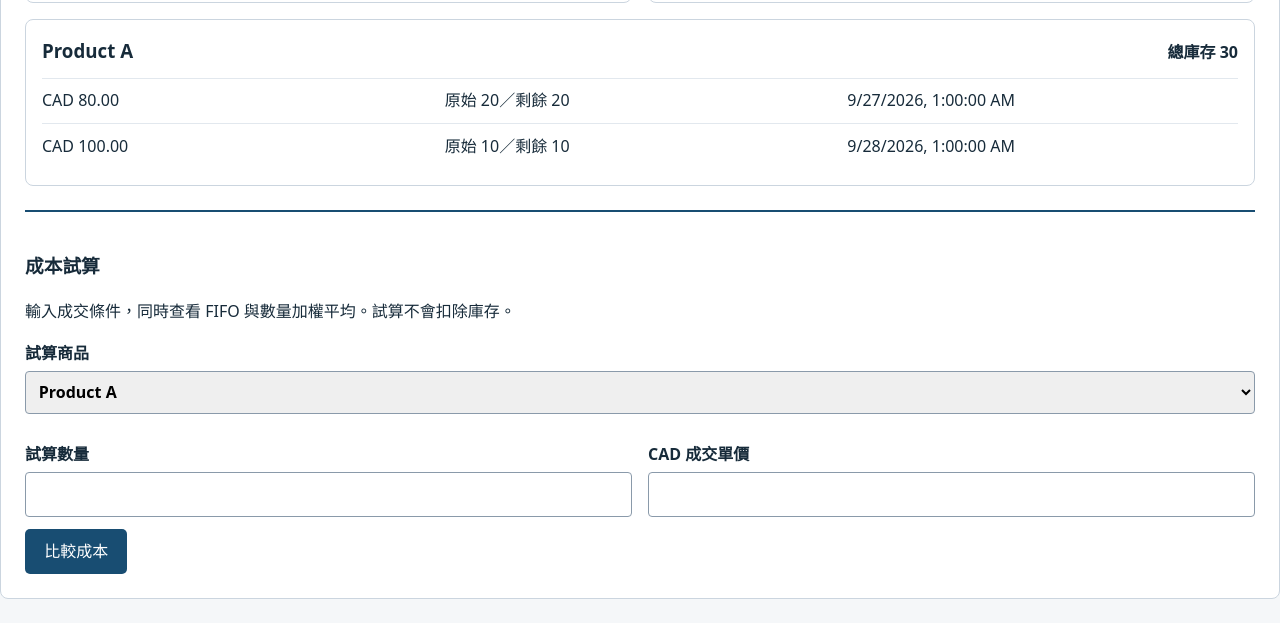
Test: 商品、進貨與庫存 › 將 FIFO 與加權平均並排呈現且不推薦算法
(page scrolled)
Expected: the dropdown labelled "試算商品" shows "Product A", [25, 371, 1255, 414]
Type "25" into the number field labelled "試算數量". click: (328, 494)
box: [25, 472, 632, 517]
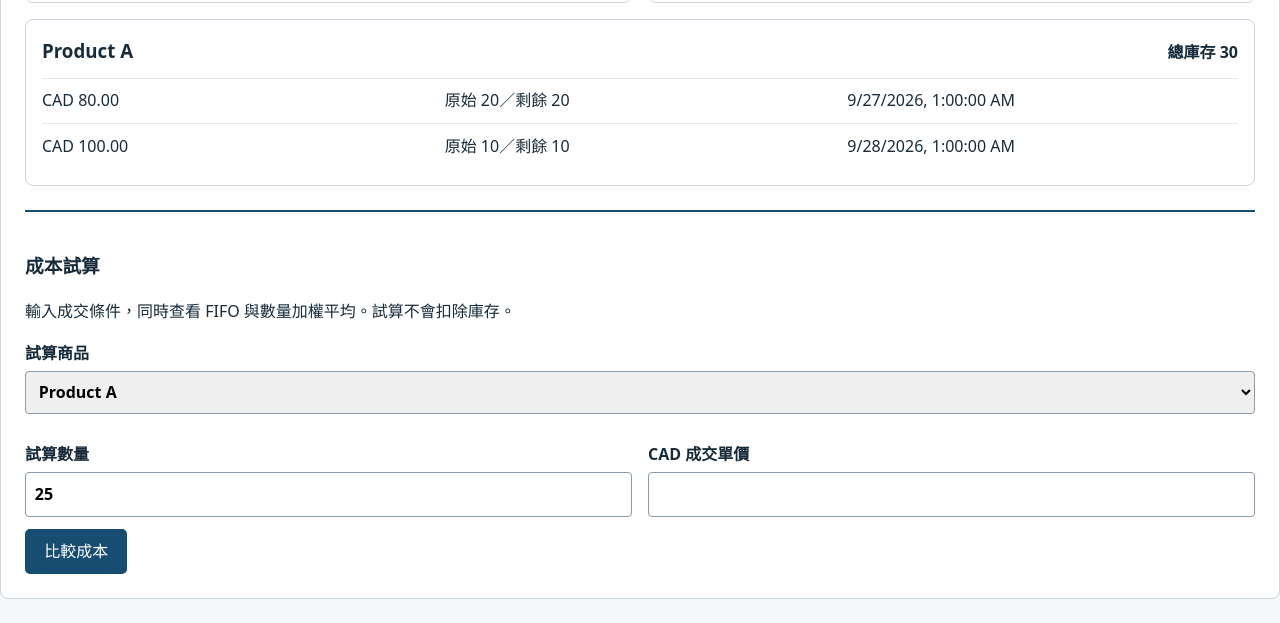
Type "120.00" into the number field labelled "CAD 成交單價". click: (952, 494)
box: [648, 472, 1255, 517]
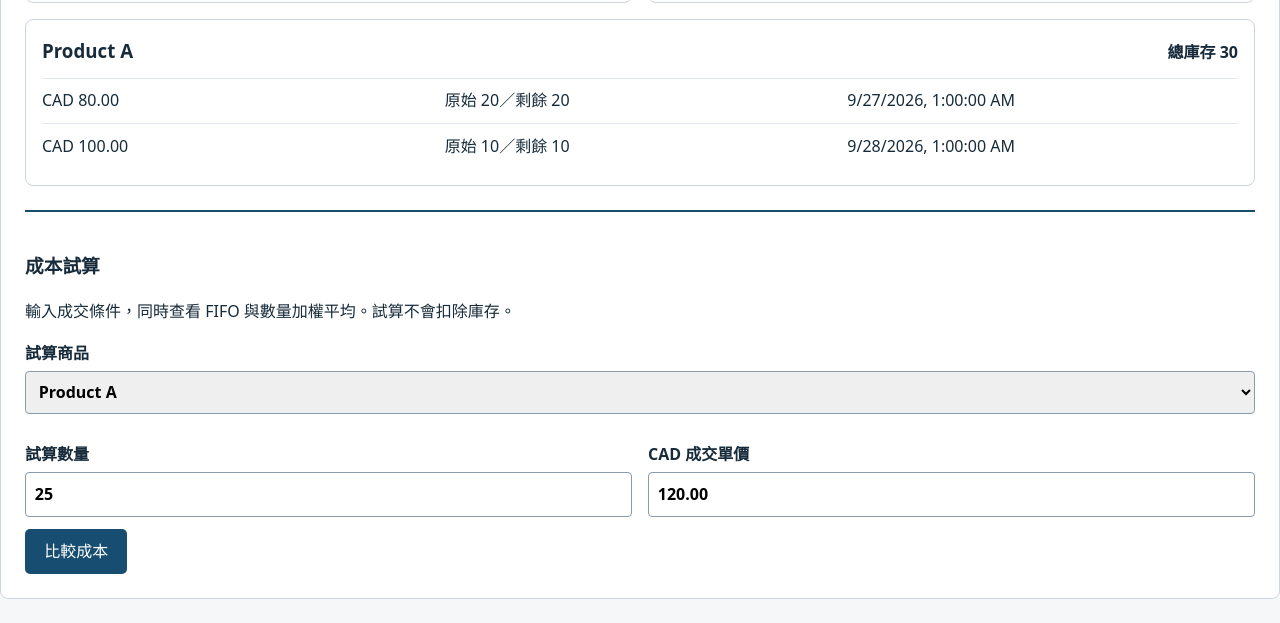
Click the button "比較成本". click: (76, 551)
box: [25, 529, 127, 574]
(page scrolled)
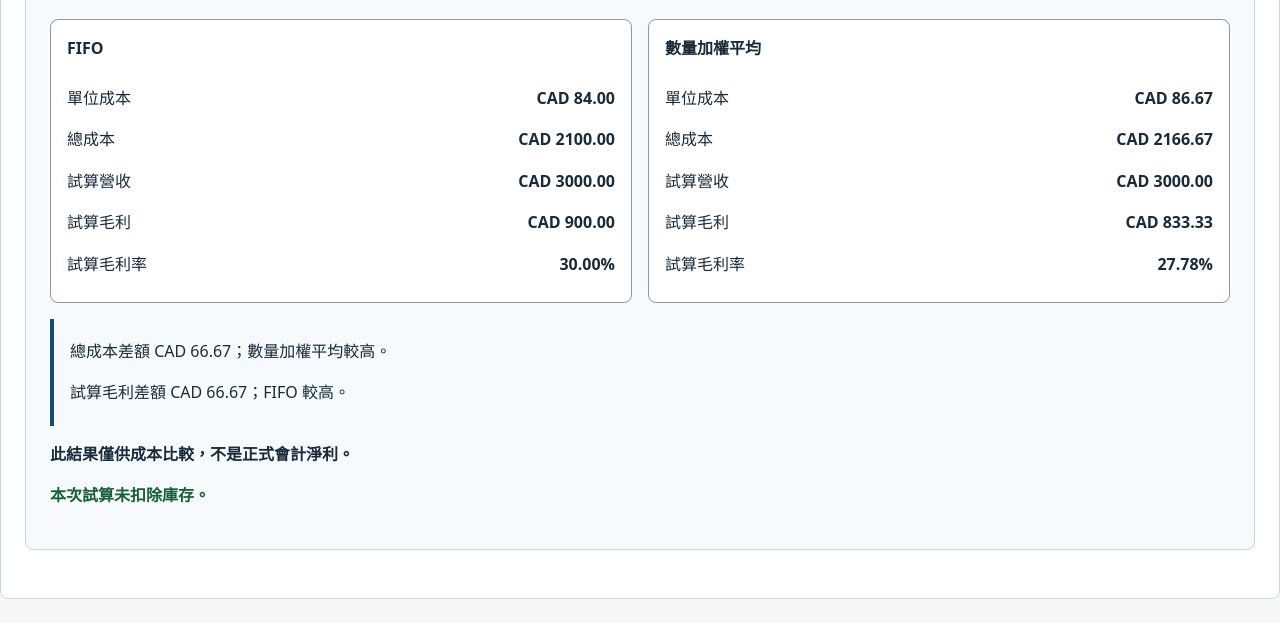
Expected: the heading "FIFO" is shown, [67, 37, 104, 59]
Expected: the heading "數量加權平均" is shown, [665, 37, 761, 59]
Expected: the text "CAD 2100.00" is shown, [518, 127, 615, 153]
